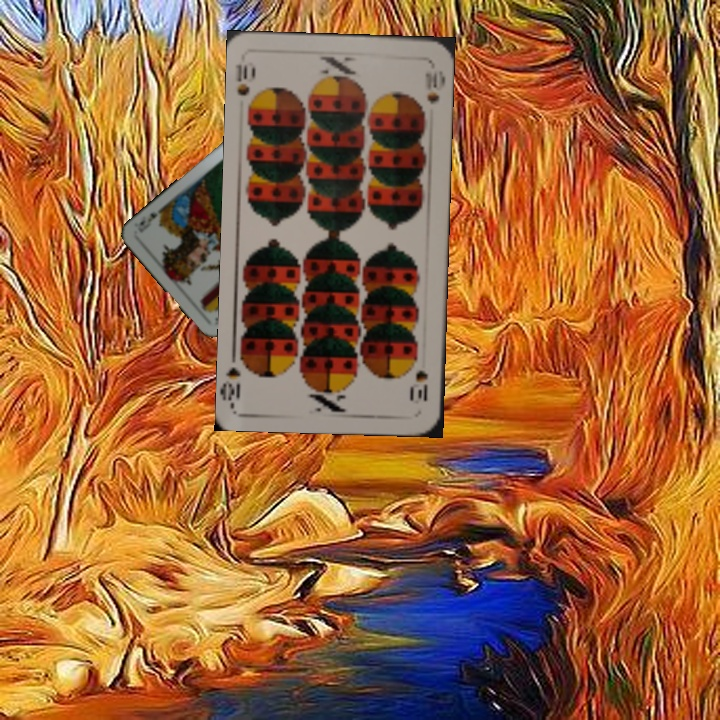S10: (233, 60, 259, 115), (408, 366, 430, 404)
